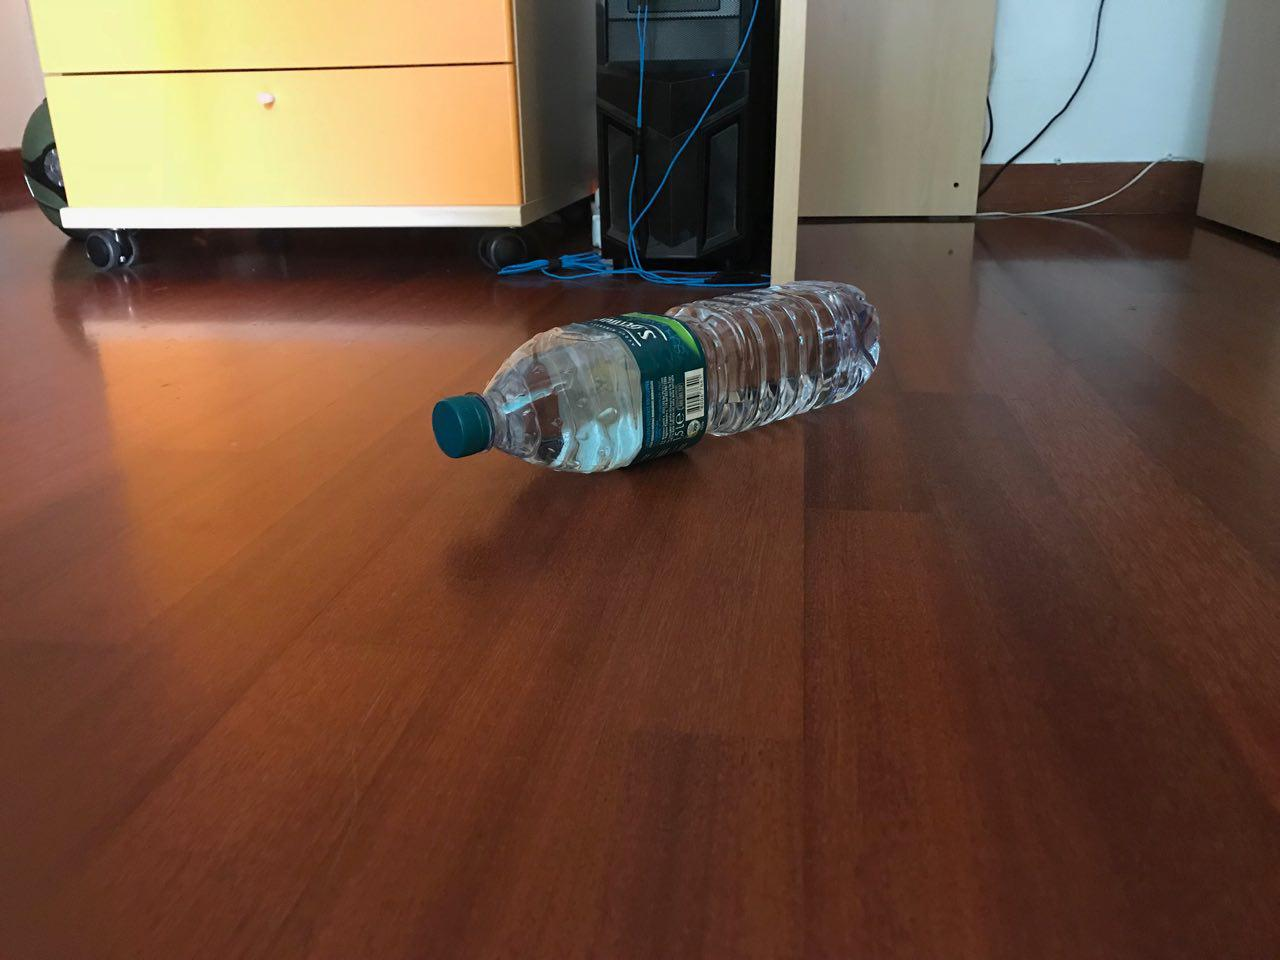san_bernardo: (431, 278, 881, 476)
